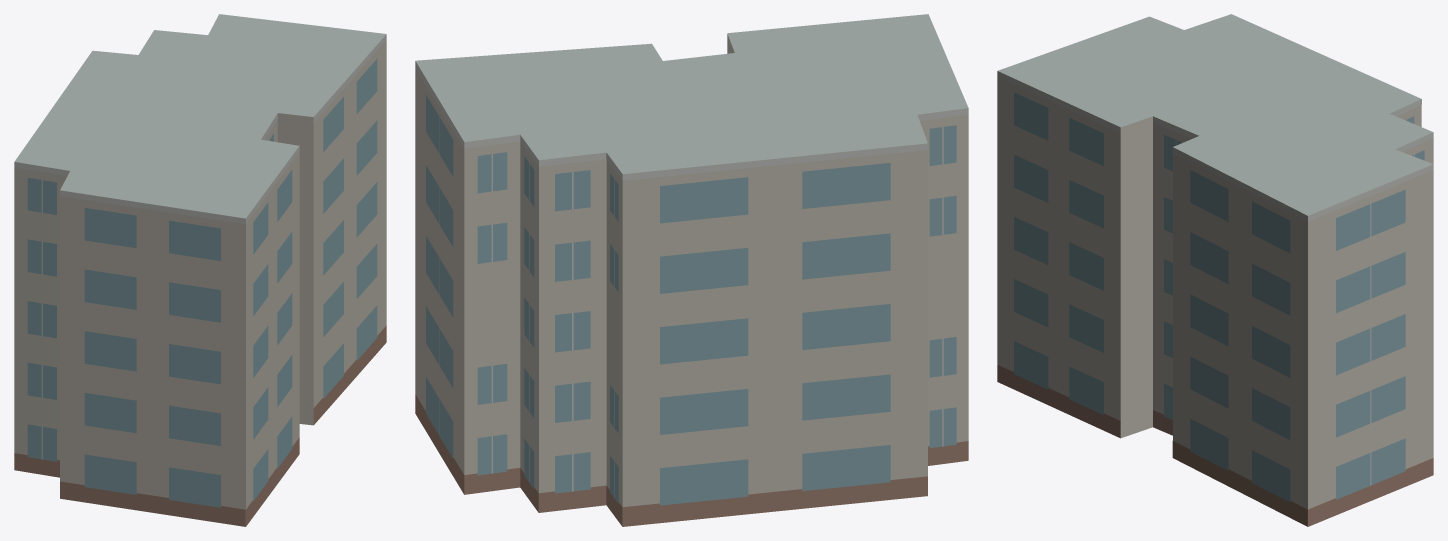
Rendered from survey-upis-32664367.glb.
3 renders of one model, left to right at view 1: azimuth 30°, elevation 25°; view 2: azimuth 150°, elevation 25°; view 3: azimuth 270°, elevation 25°, orthographic. The views are drawn at different scales.
Parts seen in each view (by area): view 1: survey-upis-32664367.tmp; view 2: survey-upis-32664367.tmp; view 3: survey-upis-32664367.tmp.
Part boxes in pixels (x1,y1,x2,y2): survey-upis-32664367.tmp: [14, 14, 386, 526]; survey-upis-32664367.tmp: [415, 14, 968, 526]; survey-upis-32664367.tmp: [997, 14, 1433, 526].
Bounding box in the file's own units: 18.11 × 13 × 16.53.
